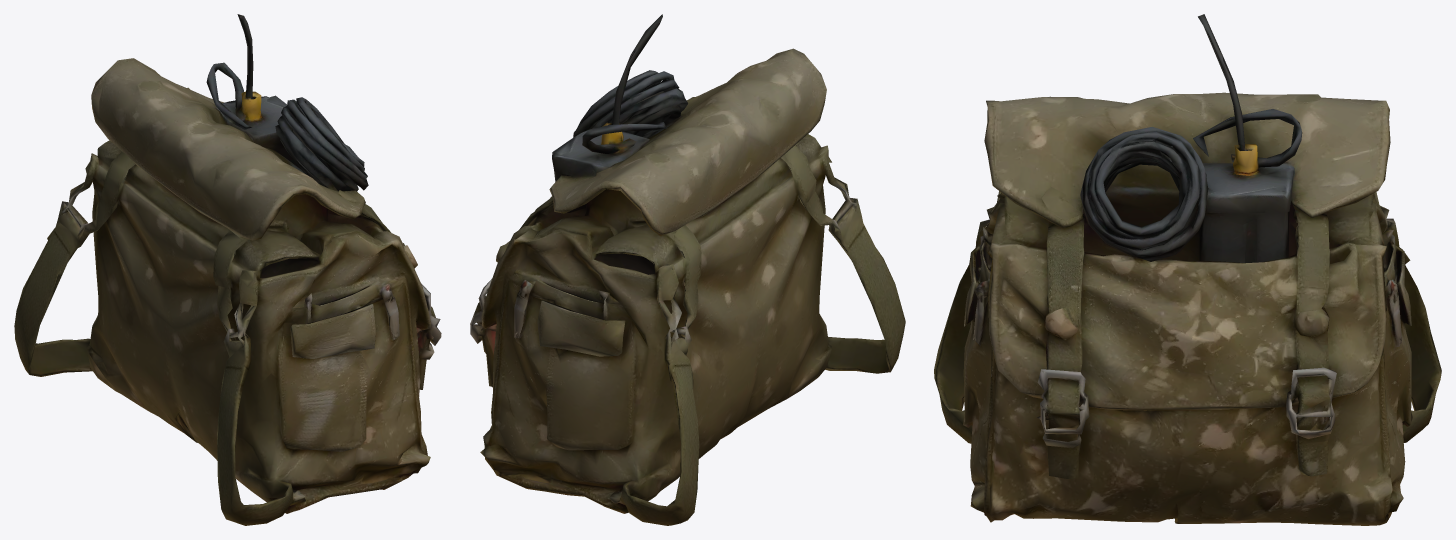
Rendered from satchel_charge.glb.
The picture shows the model from 3 angles, left to right: view 1: azimuth 30°, elevation 25°; view 2: azimuth 150°, elevation 25°; view 3: azimuth 270°, elevation 25°; orthographic projection. The views are drawn at different scales.
Visible parts, largest first — view 1: satchel_charge; view 2: satchel_charge; view 3: satchel_charge.
Boxes of the visible parts, bbox=[...] form: satchel_charge: bbox=[14, 14, 441, 525]; satchel_charge: bbox=[470, 14, 905, 525]; satchel_charge: bbox=[934, 14, 1441, 525].
Bounding box in the file's own units: 0.1929 × 0.3 × 0.2914.
Materials: 1 (1 with a texture image).
